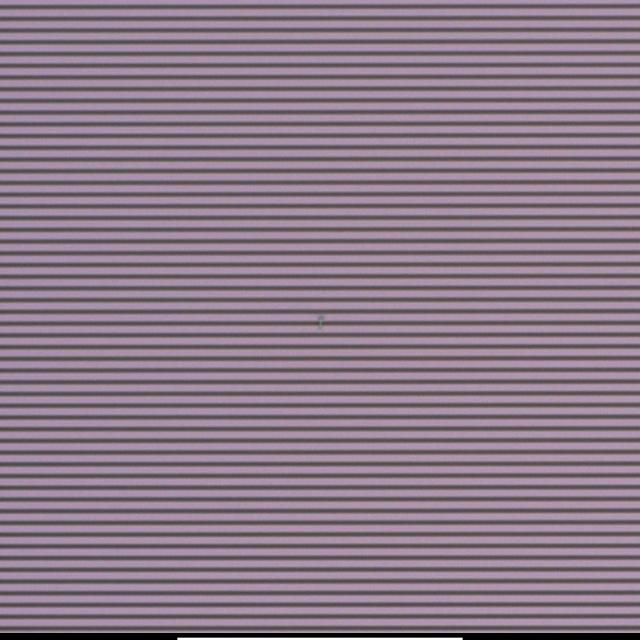03_intrusion: (316, 315, 326, 330)
